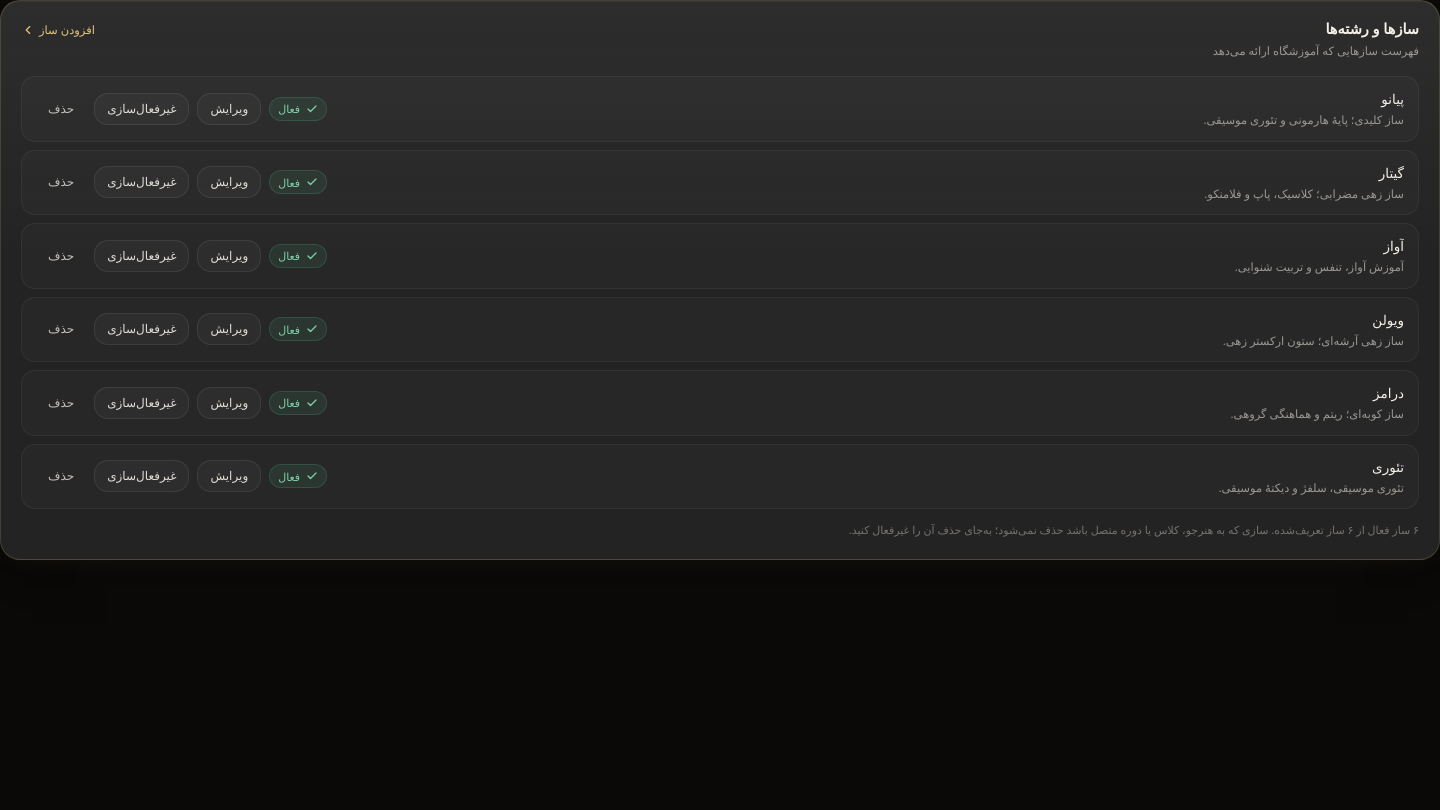
Test: editing › saves a renamed instrument
Click the button "ویرایش" in the row of "ساز زهی مضرابی؛ کلاسیک، پاپ و فلامنکو." at (229, 182), box [198,166,261,198]
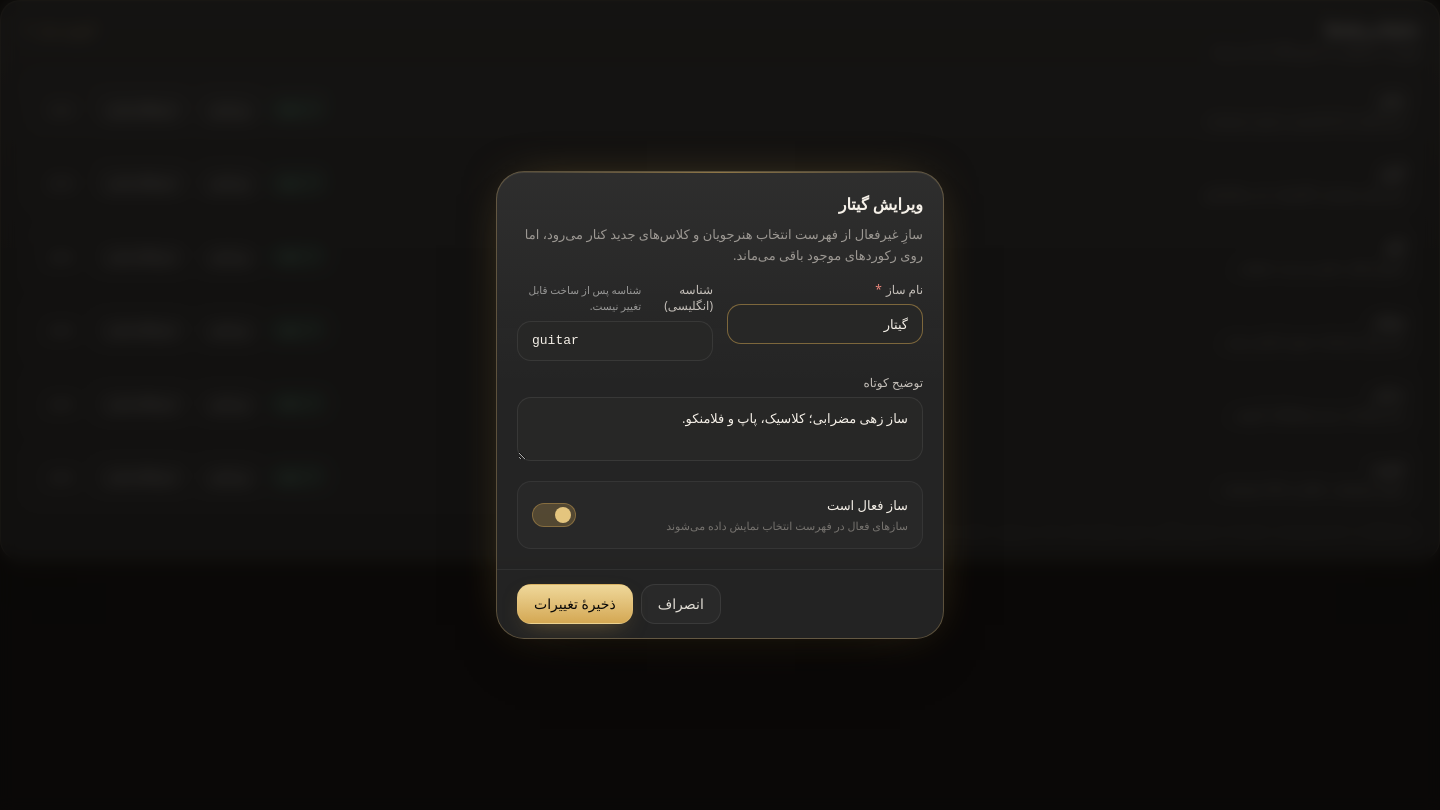
Check: the text box labelled "توضیح کوتاه" holds "ساز زهی مضرابی؛ کلاسیک، پاپ و فلامنکو.", box [517,397,923,461]
Replace the text in the field labelled "نام ساز*" with "گیتار کلاسیک" at (825, 324), box [727,304,923,344]
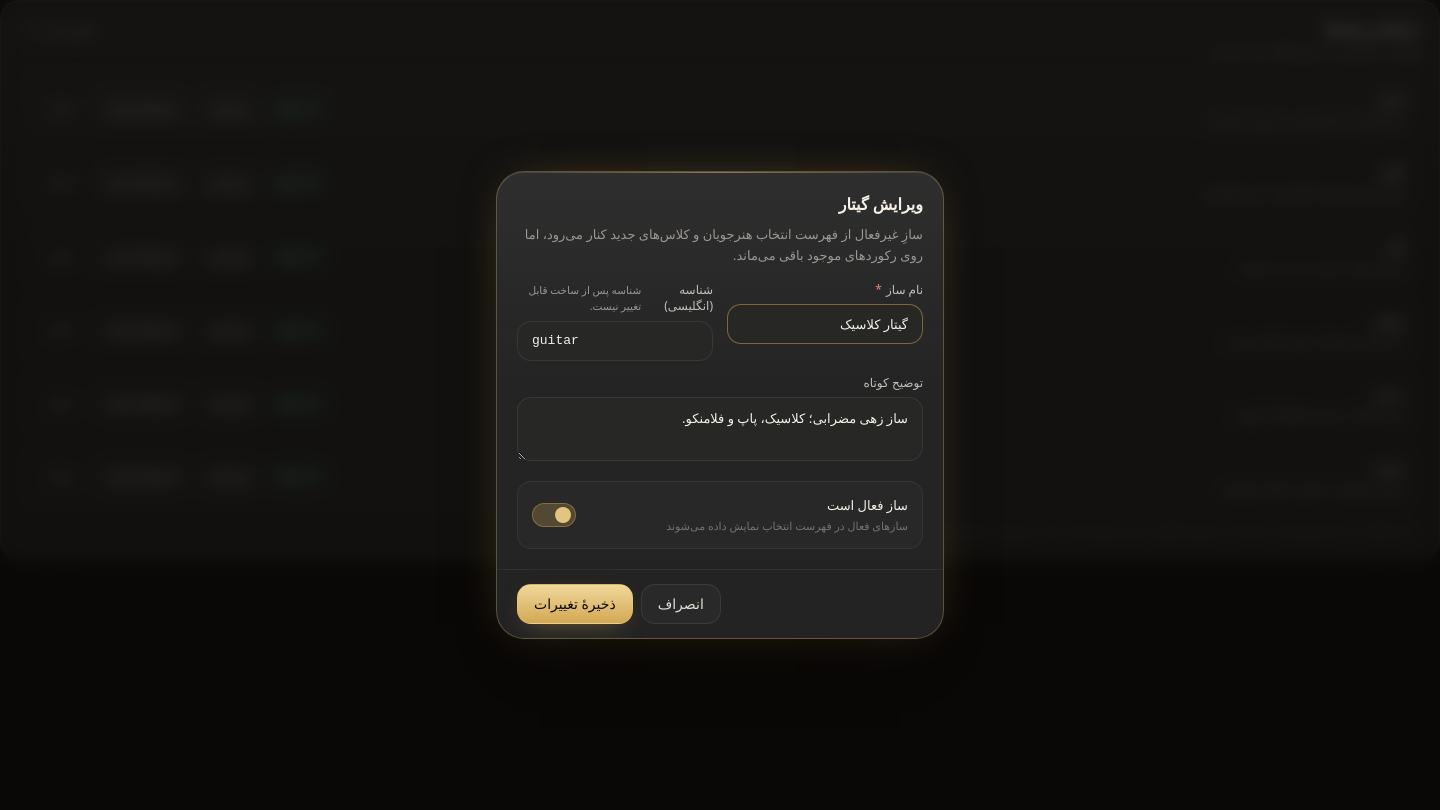
Click the button "ذخیرهٔ تغییرات" at (575, 604), box [517,584,633,624]
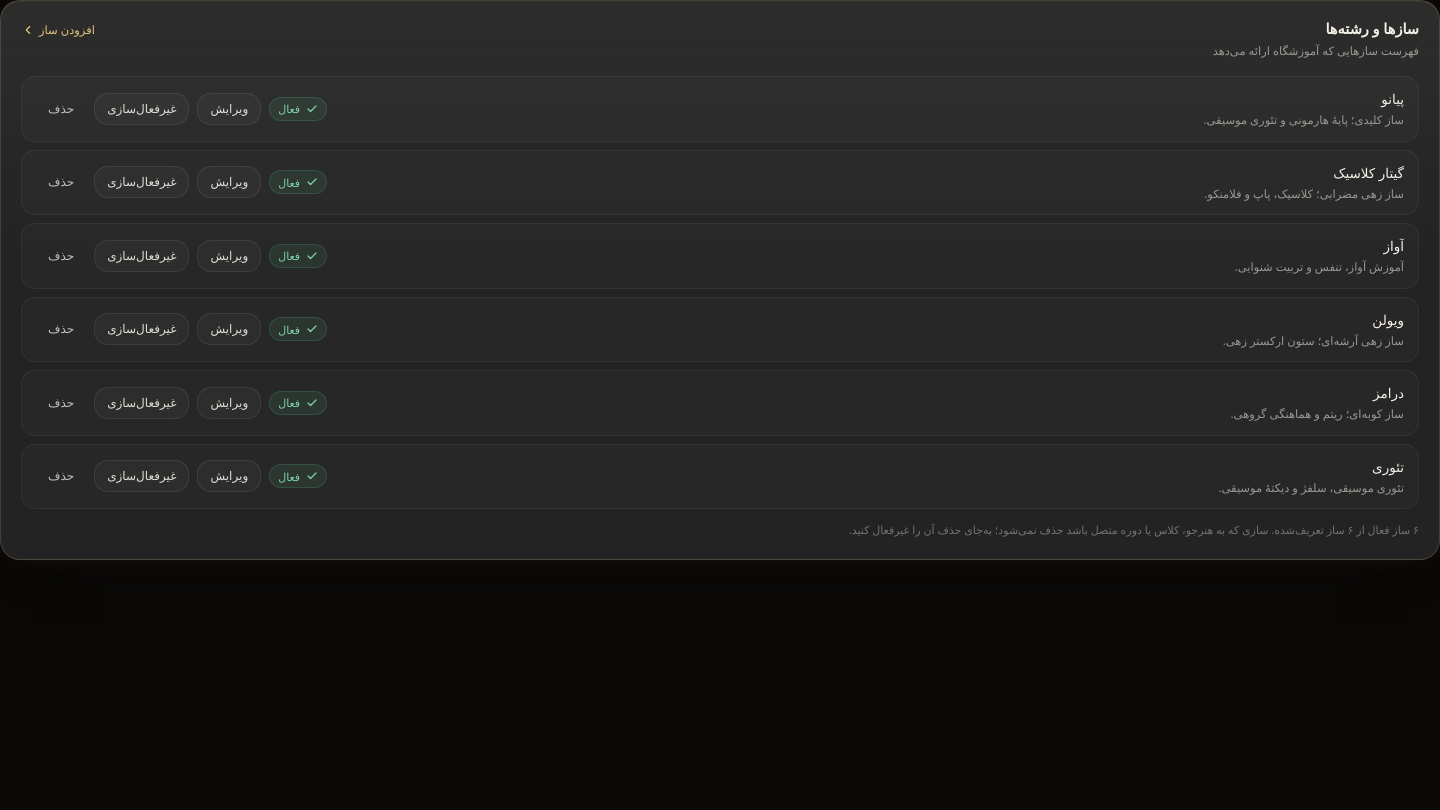
Check: the text "ساز زهی مضرابی؛ کلاسیک، پاپ و فلامنکو." is shown, box [1204,186,1404,201]
Check: the text "گیتار کلاسیک" is shown, box [1333,164,1404,182]
